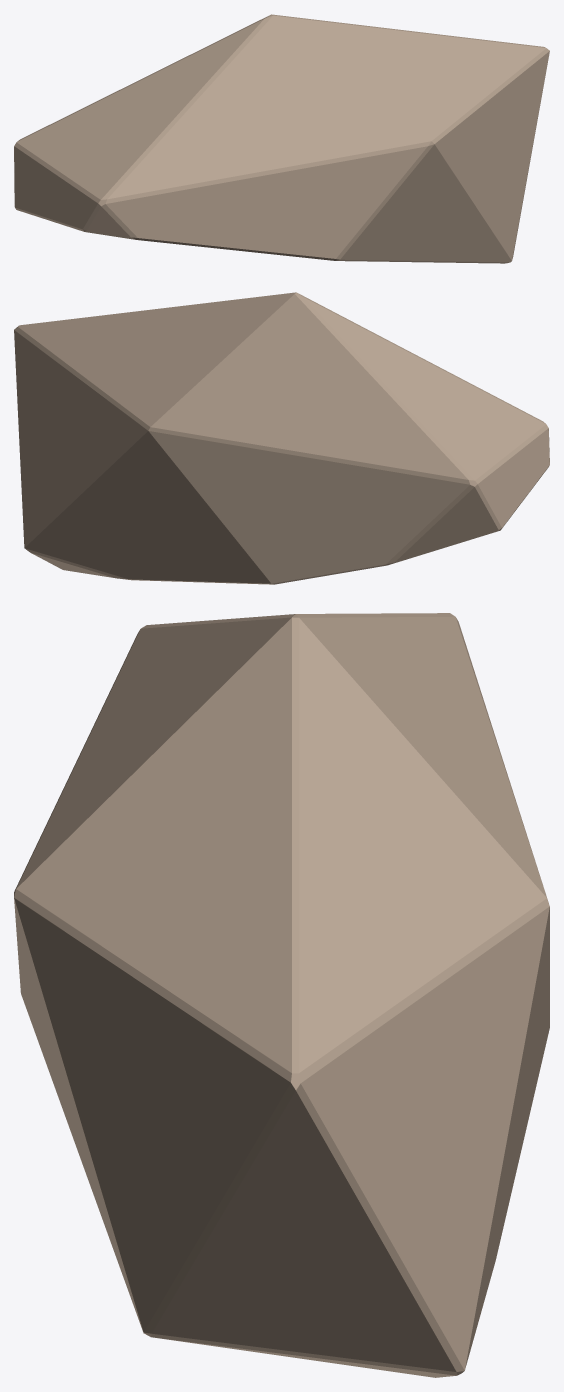
Rendered from Asteroid_Frag_03.fbx.
The picture shows the model from 3 angles, top to bottom: view 1: azimuth 30°, elevation 25°; view 2: azimuth 150°, elevation 25°; view 3: azimuth 270°, elevation 25°; orthographic projection. The views are drawn at different scales.
Parts seen in each view (by area): view 1: Asteroid_Frag_03; view 2: Asteroid_Frag_03; view 3: Asteroid_Frag_03.
Boxes of the visible parts, x1=… form: Asteroid_Frag_03: x1=14, y1=14, x2=549, y2=263; Asteroid_Frag_03: x1=14, y1=292, x2=549, y2=584; Asteroid_Frag_03: x1=14, y1=613, x2=549, y2=1377.
Bounding box in the file's own units: 54.7 × 30.22 × 25.51.
